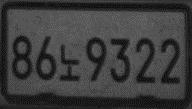2: (134, 36, 156, 85), (160, 37, 181, 86)
3: (108, 37, 131, 83)
6: (34, 35, 57, 81)
8: (9, 35, 33, 80)
9: (85, 35, 107, 82)
노: (58, 43, 81, 83)
